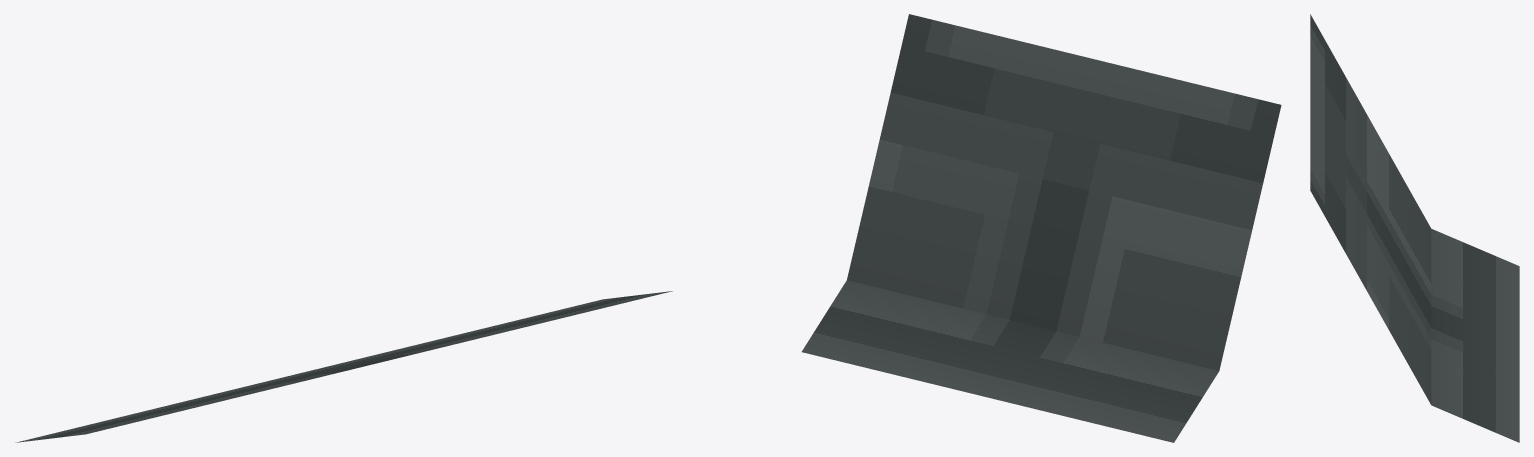
The picture shows the model from 3 angles, left to right: view 1: azimuth 30°, elevation 25°; view 2: azimuth 150°, elevation 25°; view 3: azimuth 270°, elevation 25°; orthographic projection. The views are drawn at different scales.
Bounding box in the file's own units: 1 × 0.6652 × 0.5.
Materials: 1 (1 with a texture image).
